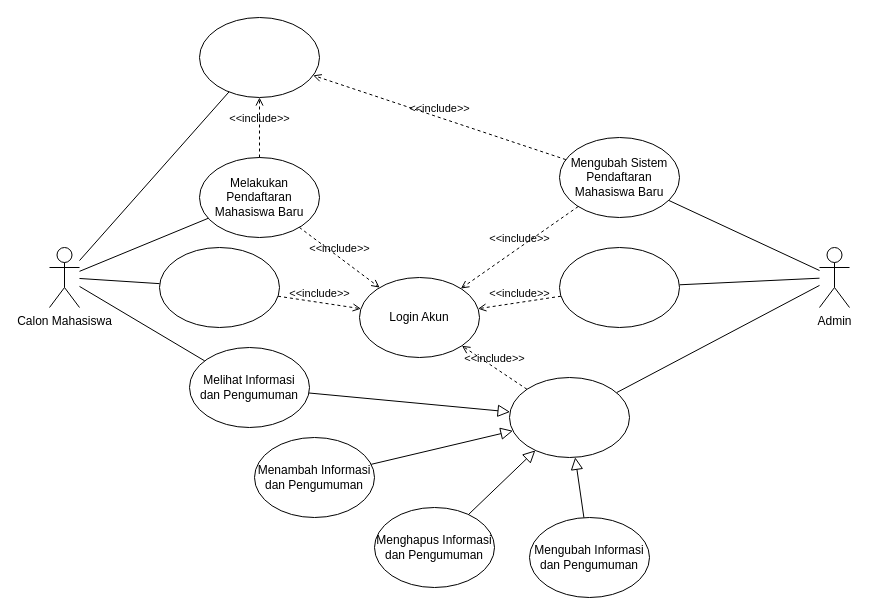
The diagram is 869 pixels wide and 615 high, and some of its shapes have lost their labels. The centre of each missing label's shape, as x and y in pixels:
"Melakukan Pendaftaran Akun" belongs at [259,57].
"Melihat Status Pendaftaran Mahasiswa" belongs at [219,287].
"Memverifikasi Pendaftaran Akun" belongs at [619,287].
"Mengelola Informasi dan Pengumuman" belongs at [569,417].
